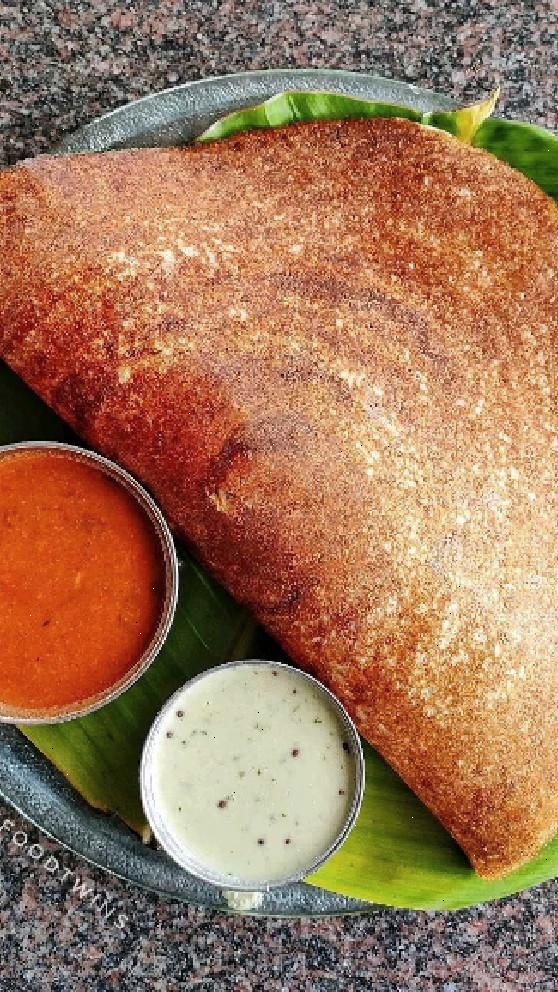dosa: (7, 95, 558, 808)
